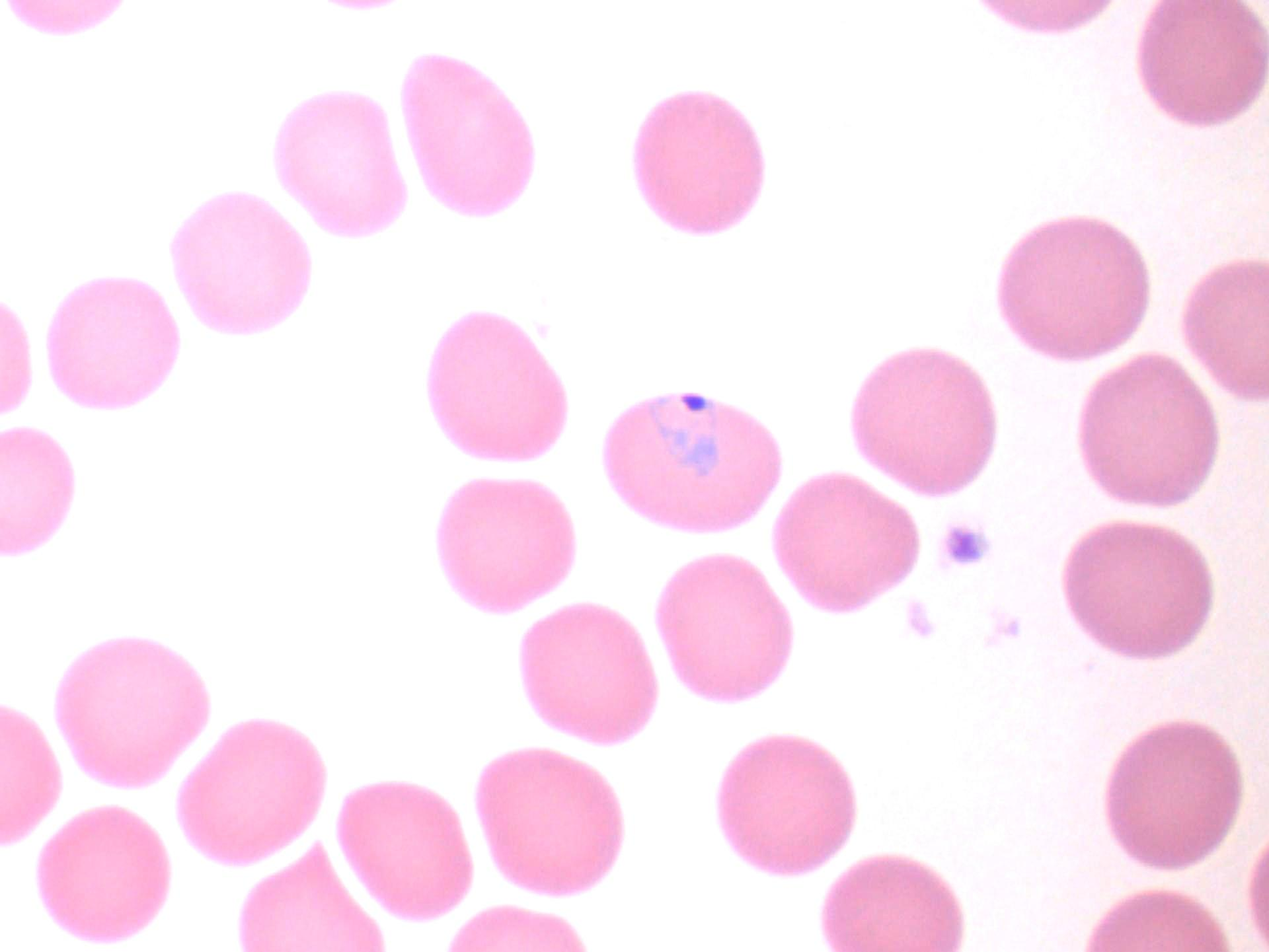Infected: (489, 419, 662, 560)
Uninfected: (1062, 163, 1213, 313), (698, 481, 836, 642), (733, 734, 868, 896), (646, 57, 793, 204), (52, 446, 193, 598), (273, 459, 418, 603), (121, 593, 268, 733), (56, 293, 206, 430), (944, 88, 1089, 227), (29, 83, 166, 229), (354, 341, 496, 477), (477, 252, 612, 395), (862, 718, 993, 863), (612, 209, 748, 348), (796, 33, 932, 172), (958, 620, 1094, 758), (414, 76, 549, 214), (694, 340, 832, 474), (504, 717, 633, 860), (1100, 10, 1232, 143), (1091, 544, 1219, 673), (1, 827, 127, 950), (888, 3, 1027, 104), (307, 0, 444, 92), (1, 555, 88, 689)
